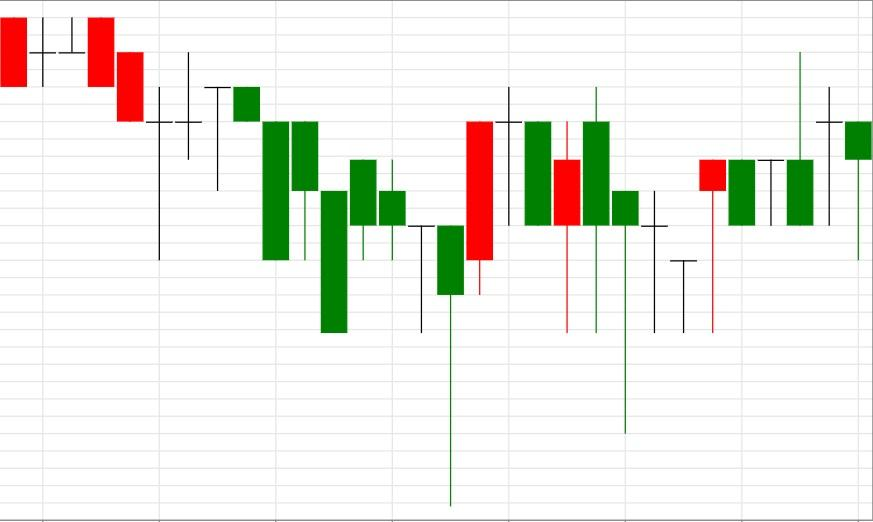bearish_engulfing_fall: (437, 86, 610, 506)
hammer_rise: (349, 159, 466, 507)
